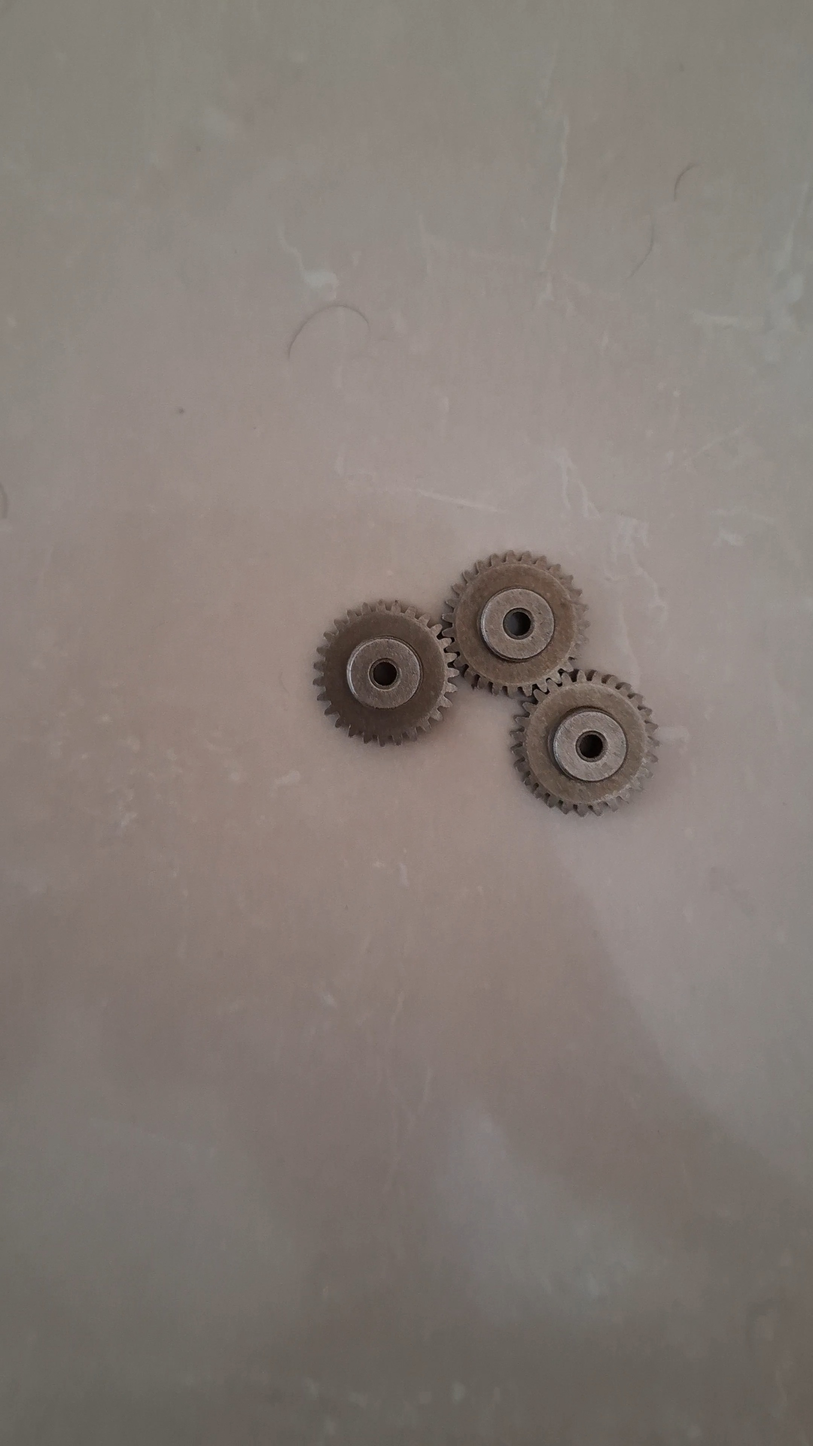spur gear: (512, 670, 657, 815), (443, 552, 586, 696), (314, 601, 457, 744)
